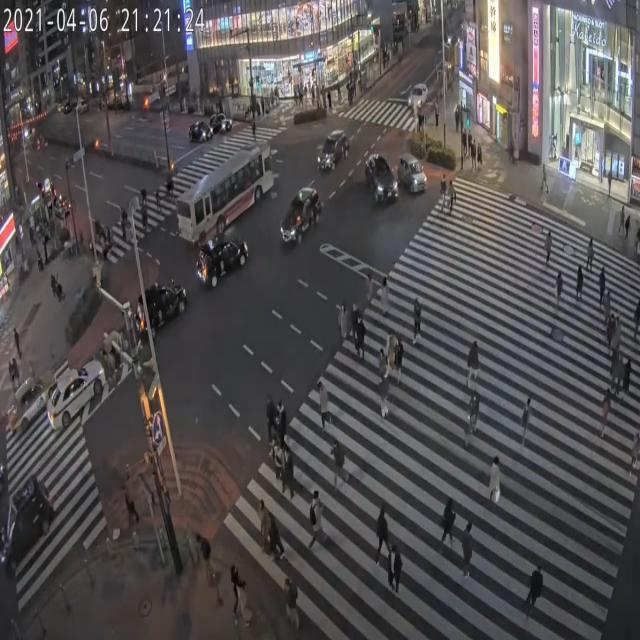bicycle: (462, 391, 482, 446)
humans: (436, 493, 462, 571), (303, 490, 329, 559), (484, 452, 509, 522), (228, 561, 250, 640), (522, 551, 544, 629), (456, 524, 478, 594), (330, 436, 352, 502), (316, 374, 338, 436), (385, 539, 408, 598), (192, 528, 216, 584), (281, 570, 303, 631), (372, 502, 391, 569), (377, 370, 396, 434), (410, 296, 430, 353), (463, 341, 485, 387), (599, 380, 613, 450), (516, 390, 532, 444), (261, 391, 277, 443), (268, 508, 281, 571), (284, 438, 296, 501), (552, 267, 567, 316), (540, 223, 554, 274), (384, 329, 398, 379), (358, 266, 375, 307), (338, 295, 350, 352), (396, 328, 407, 388), (629, 428, 640, 484), (275, 398, 288, 445), (350, 301, 360, 361), (258, 491, 267, 556), (274, 443, 285, 496), (380, 275, 391, 327), (377, 345, 389, 392), (355, 317, 367, 363), (584, 236, 596, 277), (632, 292, 640, 350), (605, 309, 614, 360), (574, 262, 584, 307), (600, 290, 614, 321), (448, 174, 456, 227), (598, 263, 608, 305), (626, 357, 635, 403), (616, 352, 624, 402), (612, 350, 620, 393), (442, 174, 447, 225), (614, 317, 620, 355)
